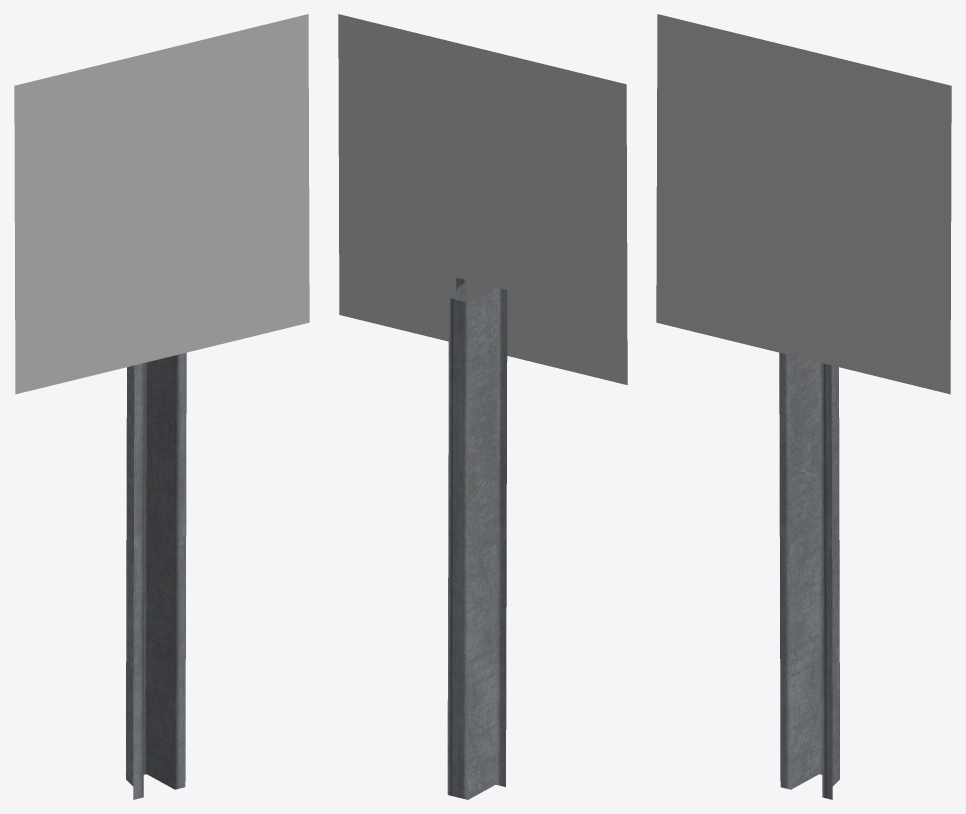
Rendered from yield.fbx.
3 renders of one model, left to right at view 1: azimuth 30°, elevation 25°; view 2: azimuth 150°, elevation 25°; view 3: azimuth 330°, elevation 25°, orthographic. The views are drawn at different scales.
Parts seen in each view (by area): view 1: pPlane3; view 2: pPlane3; view 3: pPlane3.
Boxes of the visible parts, left/top/right/bottom form: pPlane3: left=14, top=14, right=309, bottom=799; pPlane3: left=338, top=14, right=627, bottom=799; pPlane3: left=656, top=14, right=951, bottom=799.
Size of the model in its own units: 1 by 2.42 by 0.1543.
